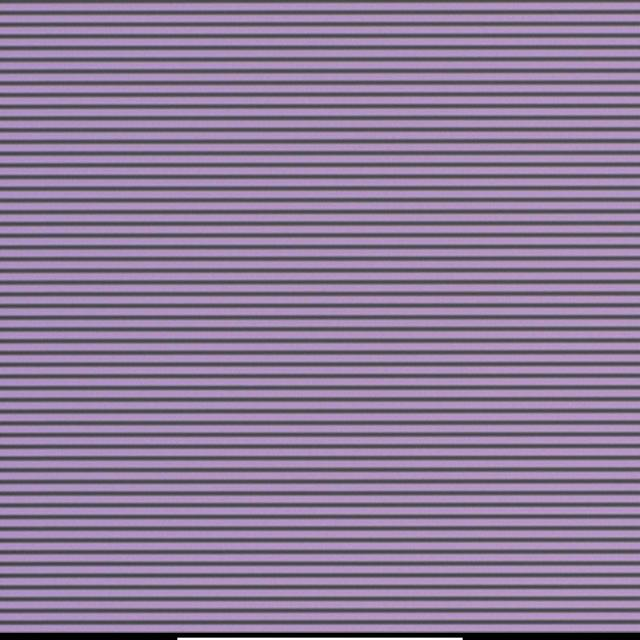nonvisual: (300, 294, 310, 304)
